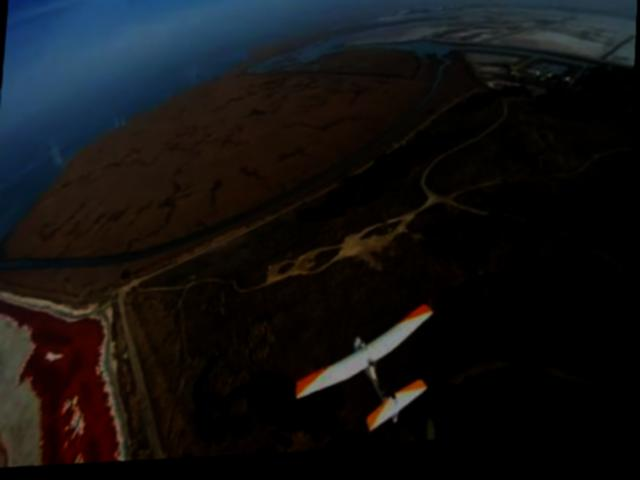uav: (291, 295, 448, 455)
